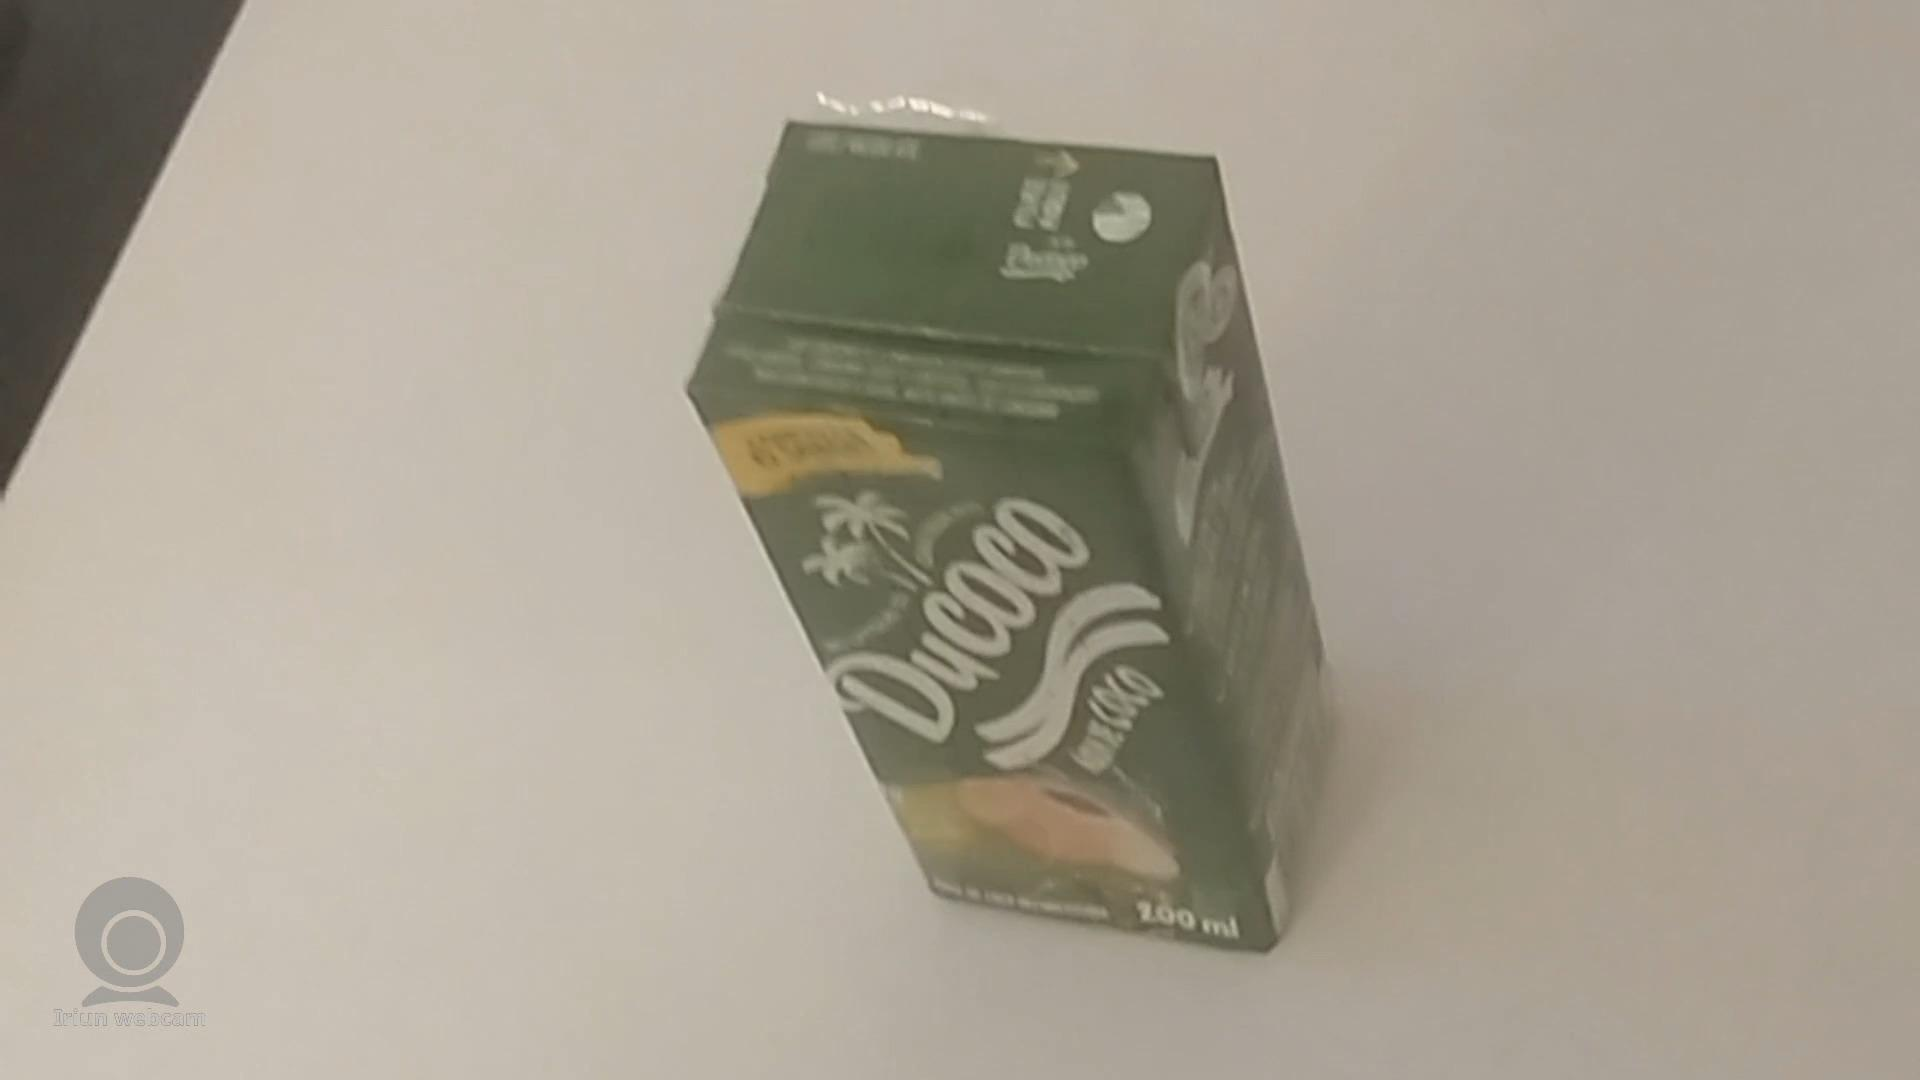coco: (686, 113, 1321, 964)
